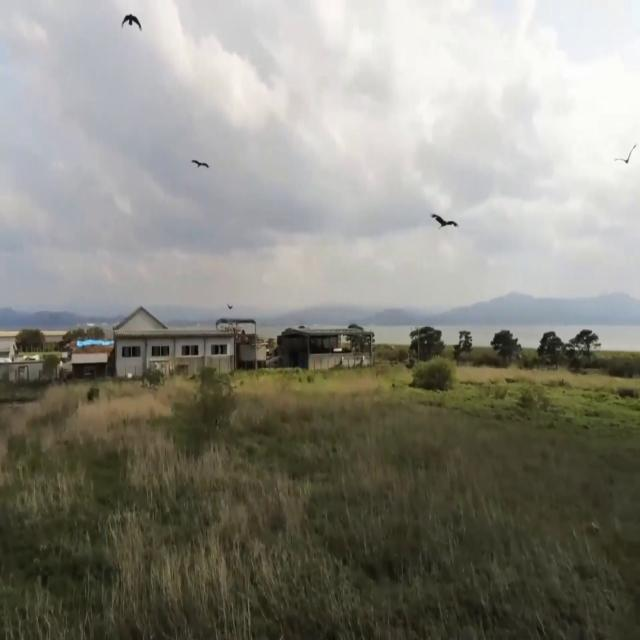bird: (428, 200, 459, 249), (614, 132, 639, 178), (121, 3, 143, 51), (190, 149, 210, 185)
